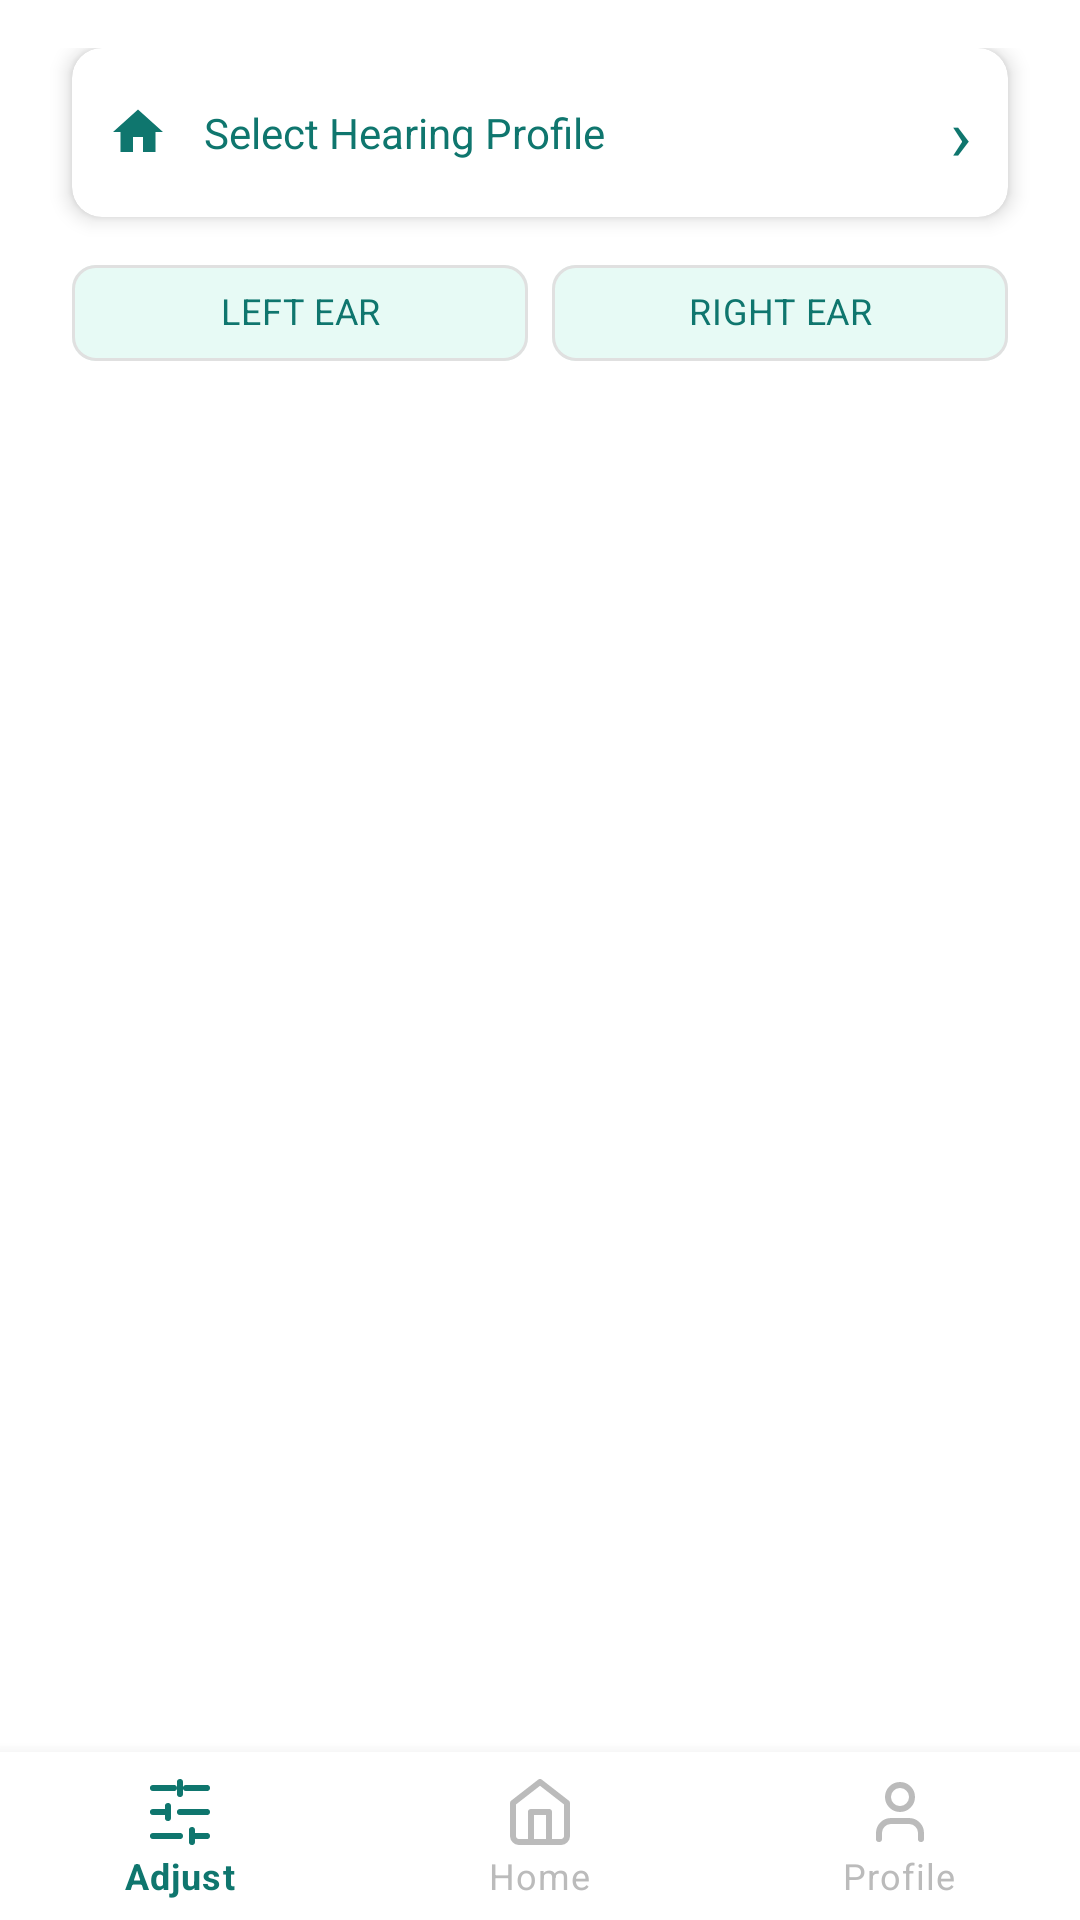

Icons on this 1080 x 1920 Android screen, each with its box as bbox=[x1, y1, x2, y2]:
home: bbox=[113, 109, 163, 152]
